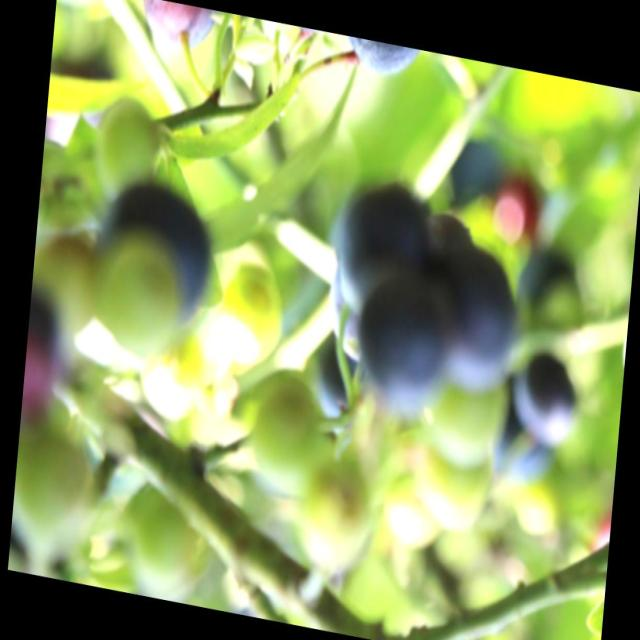blueberry: (335, 173, 432, 321), (436, 240, 522, 396), (354, 267, 448, 405), (508, 345, 586, 450)
blueberry-halfripe: (136, 0, 214, 57)
blueberry-unripe: (96, 239, 184, 363), (247, 374, 327, 498), (294, 463, 374, 575), (92, 89, 167, 205), (211, 260, 284, 376), (137, 325, 210, 430)
